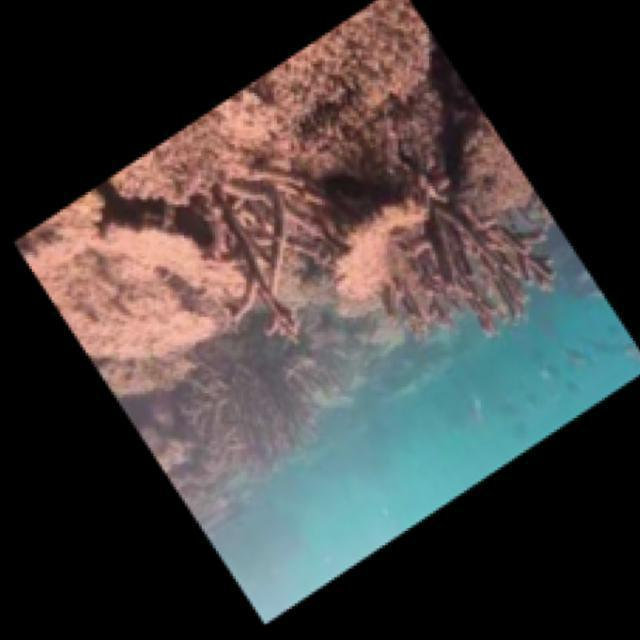Dead Coral: (119, 69, 574, 398), (132, 116, 360, 475), (293, 111, 574, 369)
